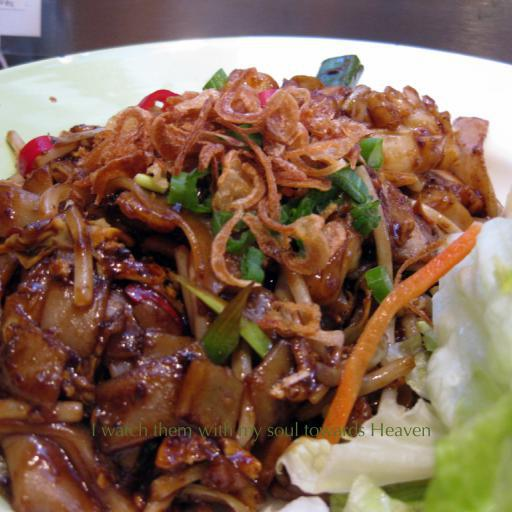Optima: (91, 422, 431, 442)
